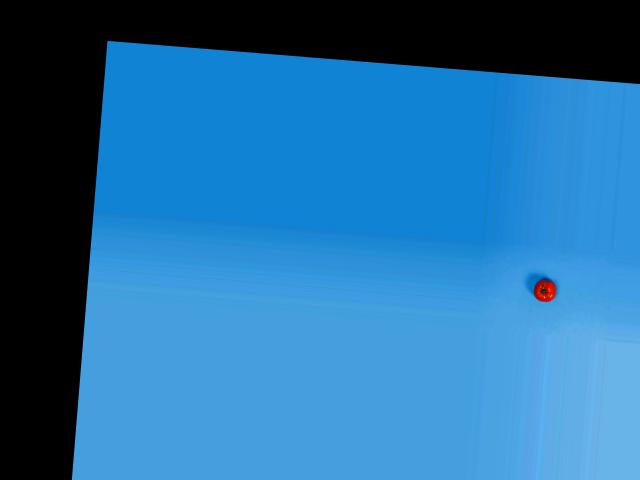tomato: (531, 278, 556, 302)
